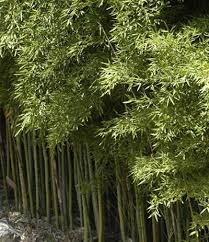bamboo: (1, 1, 166, 219), (117, 19, 207, 239)
